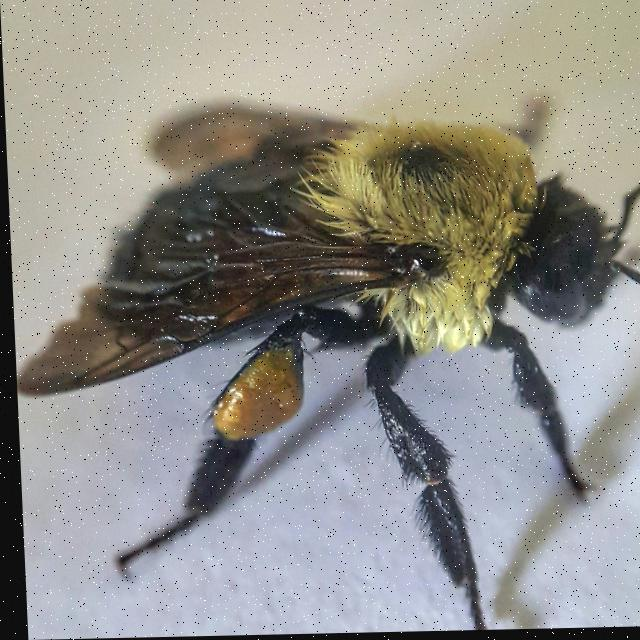Xylocopa: (3, 75, 640, 640)
